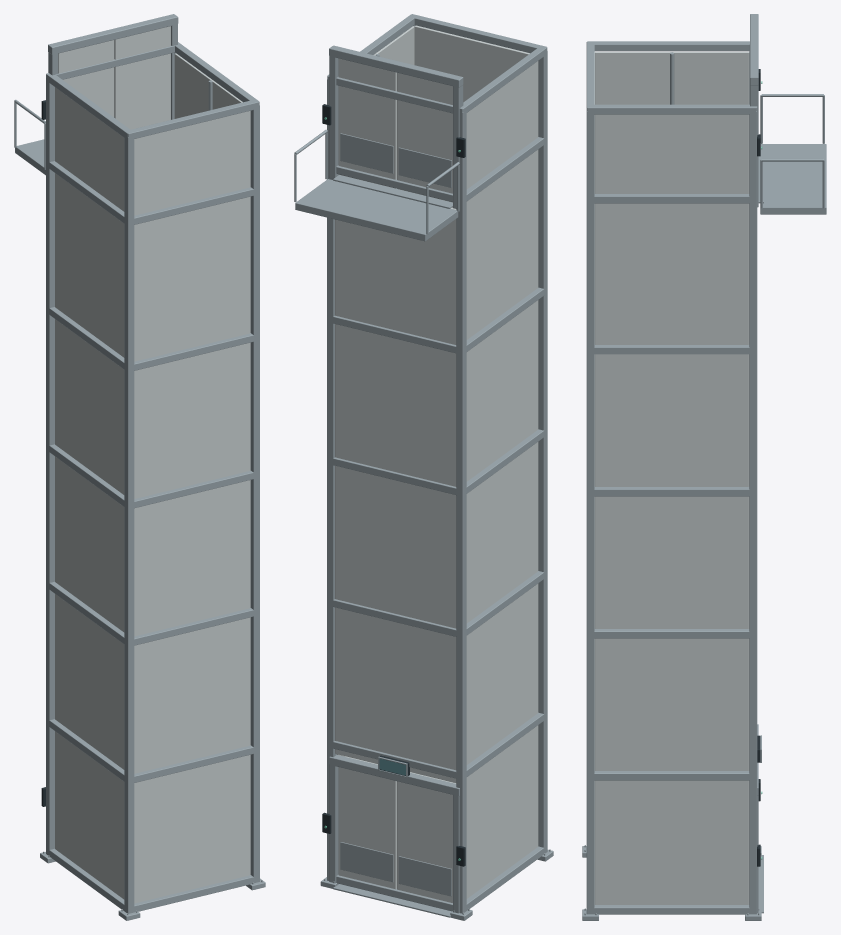
The model's file is RD_VL_Hoist.fbx.
The picture shows the model from 3 angles, left to right: view 1: azimuth 30°, elevation 25°; view 2: azimuth 150°, elevation 25°; view 3: azimuth 270°, elevation 25°; orthographic projection. The views are drawn at different scales.
Parts seen in each view (by area): view 1: RD_VL_Hoist; view 2: RD_VL_Hoist; view 3: RD_VL_Hoist.
Part boxes in pixels (<box>): RD_VL_Hoist: <box>14,14,265,920</box>; RD_VL_Hoist: <box>294,14,553,920</box>; RD_VL_Hoist: <box>582,14,826,920</box>.
Size of the model in its own units: 340 by 1893 by 498.
